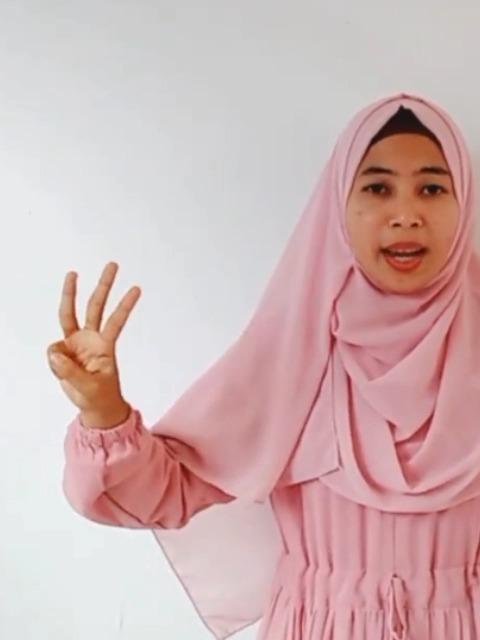W: (40, 256, 140, 414)
